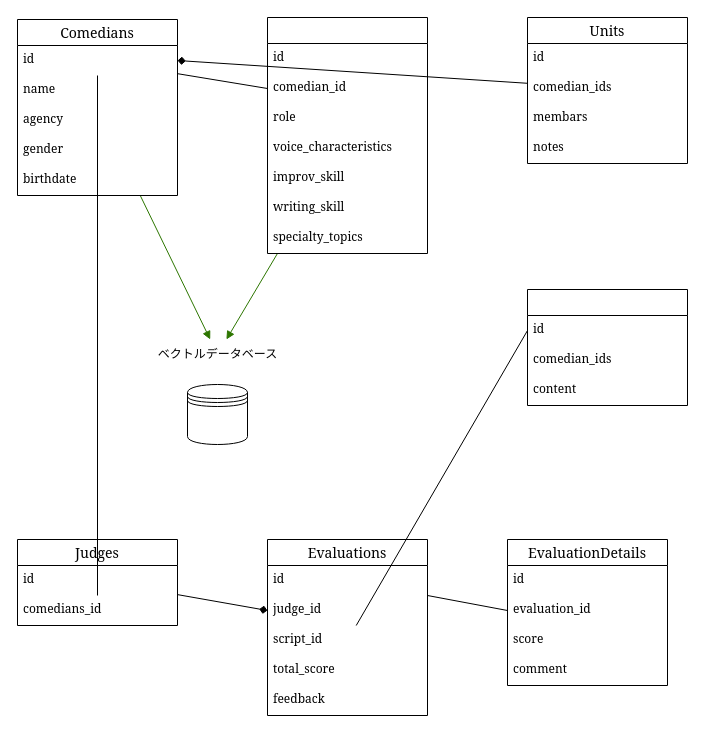
The diagram is 705 pixels wide and 736 high, and some of its shapes have lost their labels. The box of each missing label's shape, as (x1, y1, x2, y2) in pixels:
ComedianSkills: (266, 16, 428, 254)
Scrpits: (526, 288, 688, 406)
